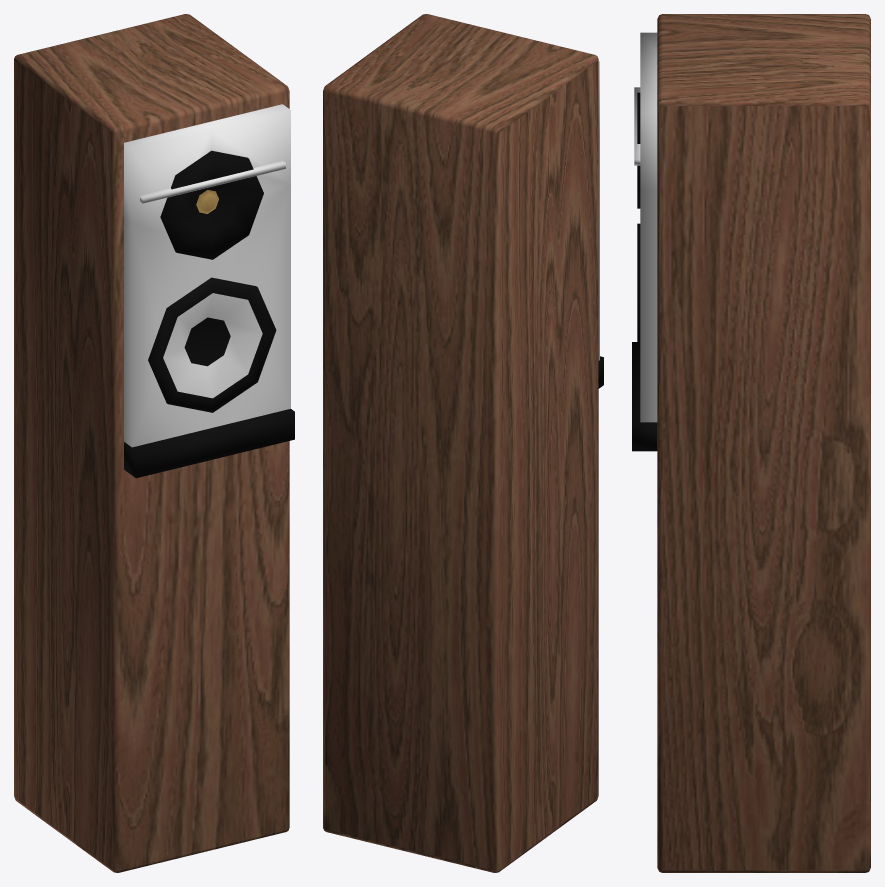
Rendered from Big Speaker.fbx.
3 views of the same model, side by side, from view 1: azimuth 30°, elevation 25°; view 2: azimuth 150°, elevation 25°; view 3: azimuth 270°, elevation 25° (orthographic). The views are drawn at different scales.
Parts seen in each view (by area): view 1: Big Speaker.001; view 2: Big Speaker.001; view 3: Big Speaker.001.
Part boxes in pixels (left/top/right/bottom): Big Speaker.001: left=14, top=14, right=294, bottom=872; Big Speaker.001: left=323, top=14, right=603, bottom=872; Big Speaker.001: left=632, top=14, right=870, bottom=872.
Size of the model in its own units: 0.7114 by 2.87 by 0.8036.
